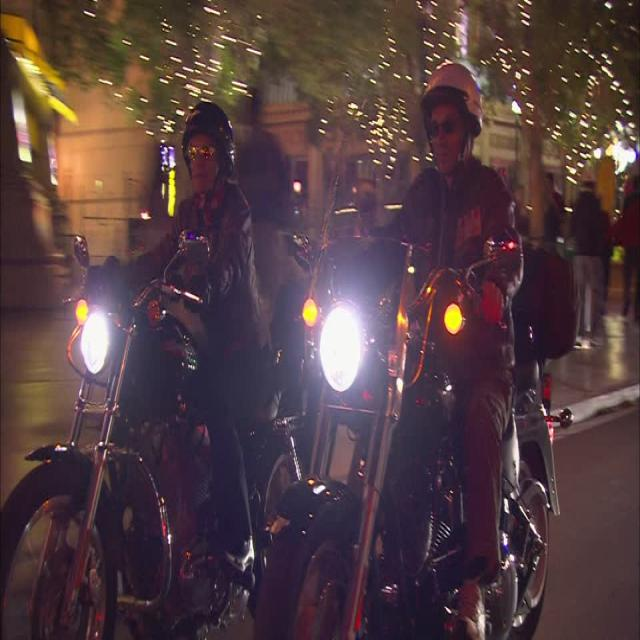Motorbike: (64, 262, 553, 640)
